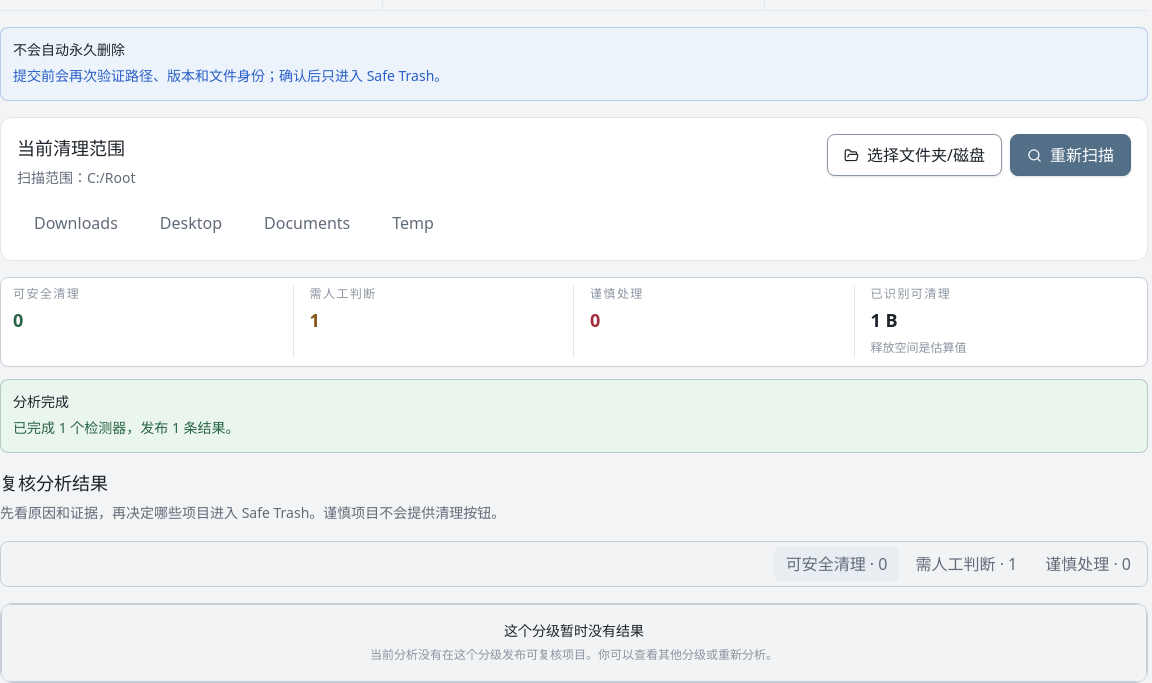
Test case: Cleanup independent review behavior › surfaces authoritative preview failure and keeps Safe Trash unavailable
(page scrolled)
Click the button "需人工判断 · 1" at [966, 564], box [904,546,1029,582]
(page scrolled)
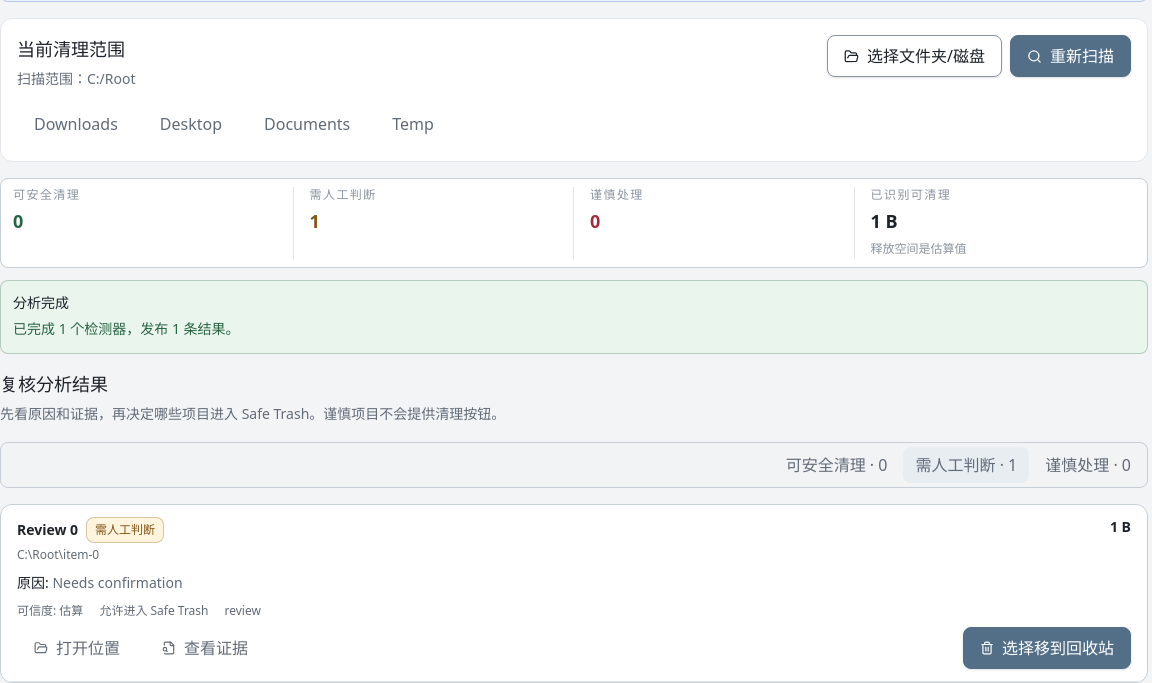
Click the button "选择移到回收站" at [1047, 648], box [963,627,1131,669]
(page scrolled)
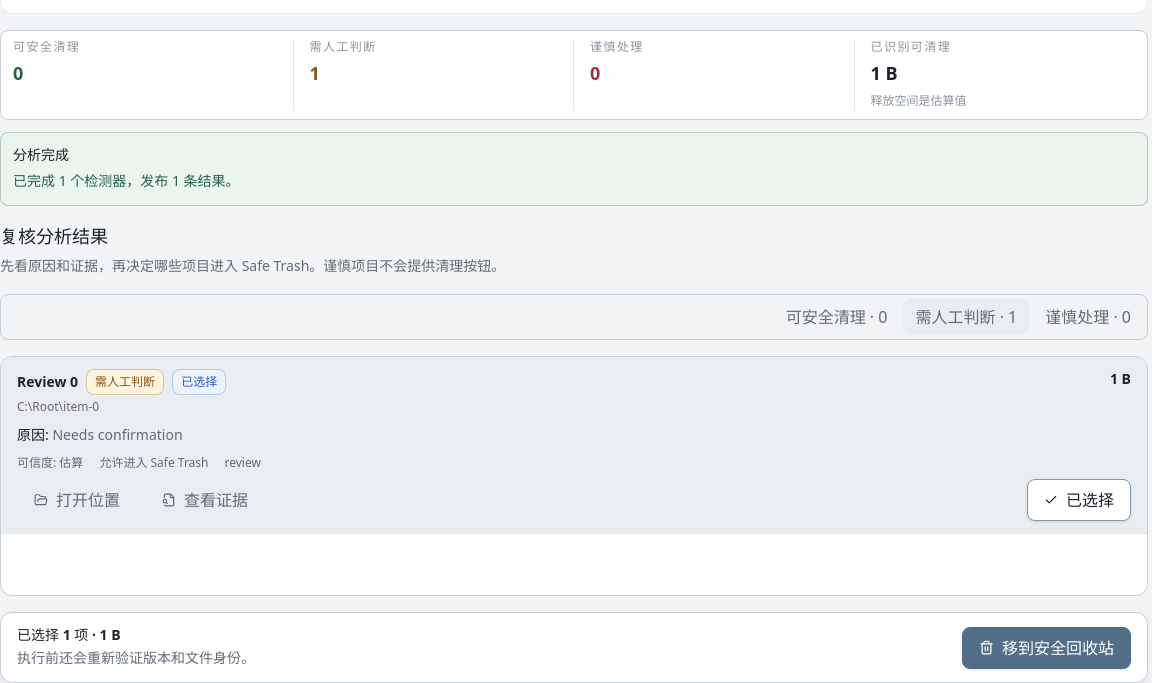
Click the button "移到安全回收站" at [1046, 648], box [962,626,1131,668]
(page scrolled)
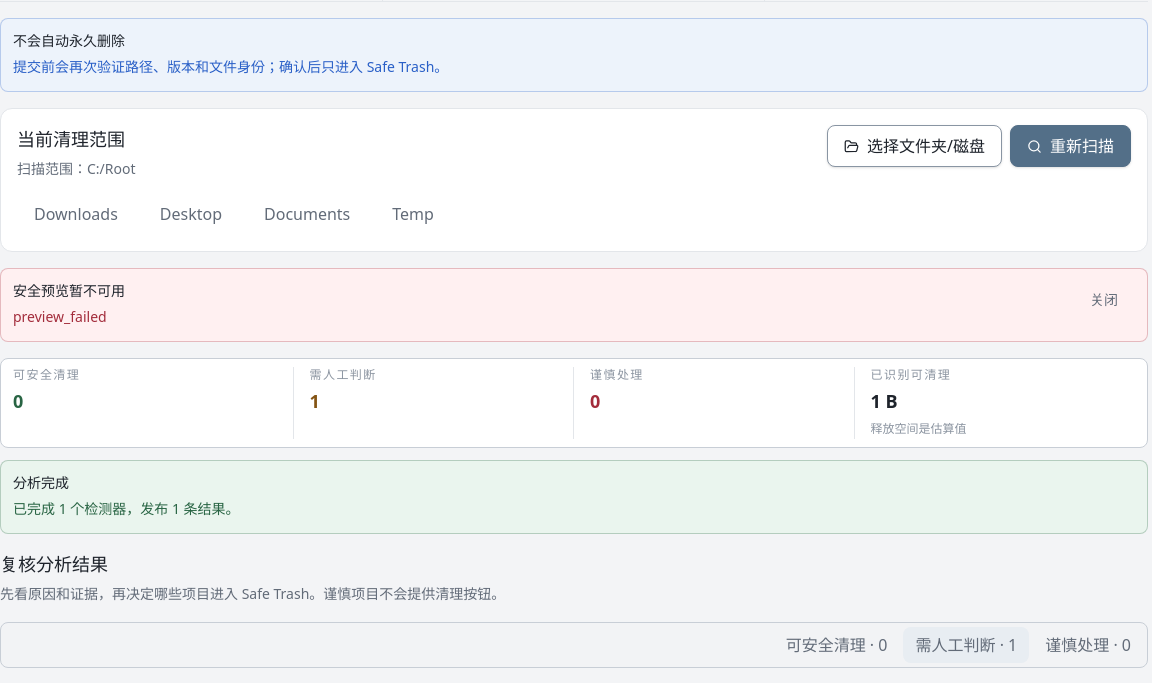
Expected: the element with id "test-root" shows "安全预览暂不可用", [13,281,125,300]
